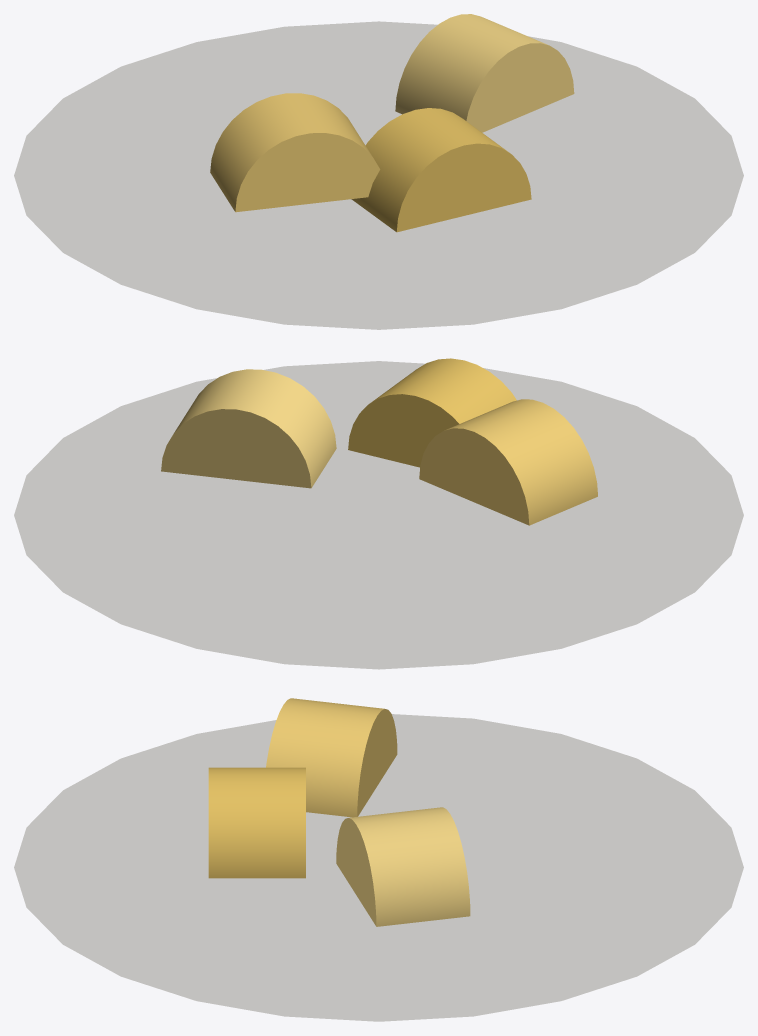
File: empanadas.glb
3 views of the same model, one above another, from view 1: azimuth 30°, elevation 25°; view 2: azimuth 150°, elevation 25°; view 3: azimuth 270°, elevation 25° (orthographic).
Parts seen in each view (by area): view 1: plato, empanada1, empanada2, empanada3; view 2: plato, empanada3, empanada1, empanada2; view 3: plato, empanada3, empanada1, empanada2.
Boxes of the visible parts, <box> form: plato: <box>14,21,743,329</box>; empanada1: <box>210,93,380,212</box>; empanada2: <box>351,108,531,232</box>; empanada3: <box>395,14,574,132</box>; plato: <box>14,361,743,669</box>; empanada3: <box>161,369,336,488</box>; empanada1: <box>419,399,597,525</box>; empanada2: <box>348,358,516,467</box>; plato: <box>14,714,743,1021</box>; empanada3: <box>336,807,470,926</box>; empanada1: <box>266,698,397,817</box>; empanada2: <box>208,767,305,878</box>.
Size of the model in its own units: 1.5 by 0.31 by 1.5.
